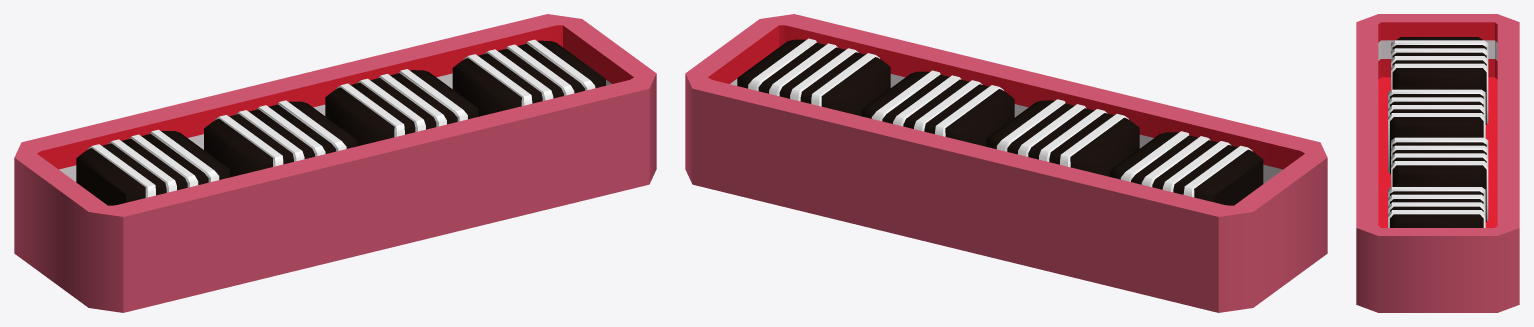
The model's file is Choco2-1.fbx.
The picture shows the model from 3 angles, left to right: view 1: azimuth 30°, elevation 25°; view 2: azimuth 150°, elevation 25°; view 3: azimuth 270°, elevation 25°; orthographic projection. The views are drawn at different scales.
Parts seen in each view (by area): view 1: Choco2-1; view 2: Choco2-1; view 3: Choco2-1.
Part boxes in pixels (box(x1,y1,x2,y2)): Choco2-1: box(14, 14, 656, 312); Choco2-1: box(685, 14, 1327, 312); Choco2-1: box(1356, 14, 1519, 312).
Bounding box in the file's own units: 14.59 × 2.38 × 4.54.
